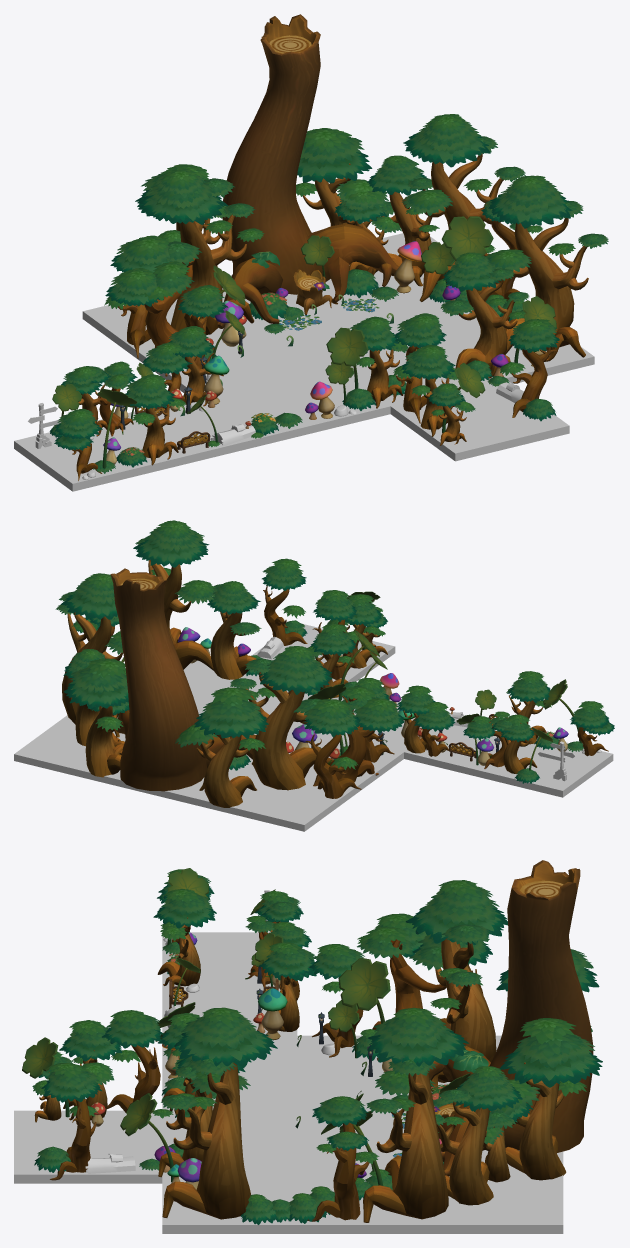
The model's file is Forest (1).fbx.
3 views of the same model, one above another, from view 1: azimuth 30°, elevation 25°; view 2: azimuth 150°, elevation 25°; view 3: azimuth 270°, elevation 25° (orthographic). The views are drawn at different scales.
Parts seen in each view (by area): view 1: Forest_Floor, Cosmetic_Puzzle_Tree, polySurface641 (×3), polySurface658 (×2), polySurface643 (×5), polySurface894 (×2), polySurface904 (×2), polySurface923 (×2), polySurface674 (×2), polySurface893 (×2), Big_Leaf2, Big_Leaf10 (+16 smaller); view 2: Forest_Floor, Cosmetic_Puzzle_Tree, polySurface641 (×3), polySurface643 (×6), polySurface658 (×2), polySurface923 (×4), polySurface894 (×2), polySurface922 (×2), polySurface904 (×2), polySurface674 (×2), polySurface932, polySurface673 (+12 smaller); view 3: Forest_Floor, Cosmetic_Puzzle_Tree, polySurface658 (×2), polySurface641 (×3), polySurface643 (×4), polySurface923 (×5), polySurface894 (×2), polySurface674 (×3), polySurface922 (×3), polySurface904 (×2), Big_Leaf7, polySurface672 (+22 smaller).
Part boxes in pixels (x1,y1,x2,y2): Forest_Floor: (14, 233, 594, 491); Cosmetic_Puzzle_Tree: (217, 14, 398, 328); polySurface641 (×3): (171, 189, 517, 378); polySurface658 (×2): (419, 153, 588, 361); polySurface643 (×5): (142, 163, 456, 465); polySurface894 (×2): (403, 133, 572, 228); polySurface904 (×2): (138, 194, 501, 291); polySurface923 (×2): (297, 152, 455, 379); polySurface674 (×2): (396, 345, 557, 423); polySurface893 (×2): (415, 126, 563, 215); Big_Leaf2: (441, 216, 493, 260); Big_Leaf10: (326, 327, 368, 388); Forest_Floor: (14, 624, 613, 831); Cosmetic_Puzzle_Tree: (110, 568, 256, 791); polySurface641 (×3): (75, 611, 316, 790); polySurface643 (×6): (85, 623, 545, 807); polySurface658 (×2): (62, 560, 213, 724); polySurface923 (×4): (64, 638, 550, 738); polySurface894 (×2): (61, 539, 209, 620); polySurface922 (×2): (70, 667, 260, 724); polySurface904 (×2): (207, 596, 332, 694); polySurface674 (×2): (263, 585, 394, 762); polySurface932: (305, 734, 361, 798); polySurface673: (300, 696, 378, 786); Forest_Floor: (14, 932, 563, 1233); Cosmetic_Puzzle_Tree: (428, 860, 593, 1176); polySurface658 (×2): (162, 1062, 448, 1222); polySurface641 (×3): (158, 938, 496, 1205); polySurface643 (×4): (34, 917, 566, 1180); polySurface923 (×5): (59, 907, 602, 1087); polySurface894 (×2): (174, 1030, 469, 1067); polySurface674 (×3): (50, 1008, 363, 1180); polySurface922 (×3): (161, 894, 594, 1067); polySurface904 (×2): (405, 908, 522, 1111); Big_Leaf7: (338, 957, 390, 1023); polySurface672: (307, 1122, 369, 1221).
Size of the model in its own units: 20.15 by 8.59 by 16.37.
